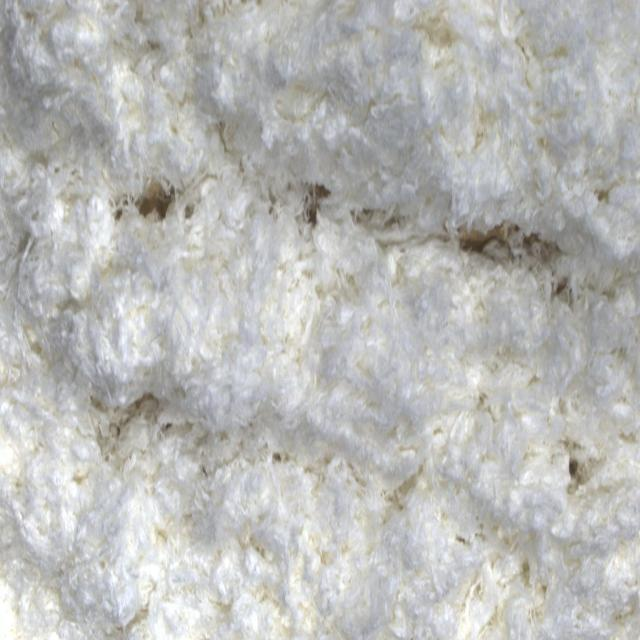dust: (446, 220, 596, 278), (114, 158, 189, 244), (292, 193, 345, 229), (569, 453, 590, 491)
